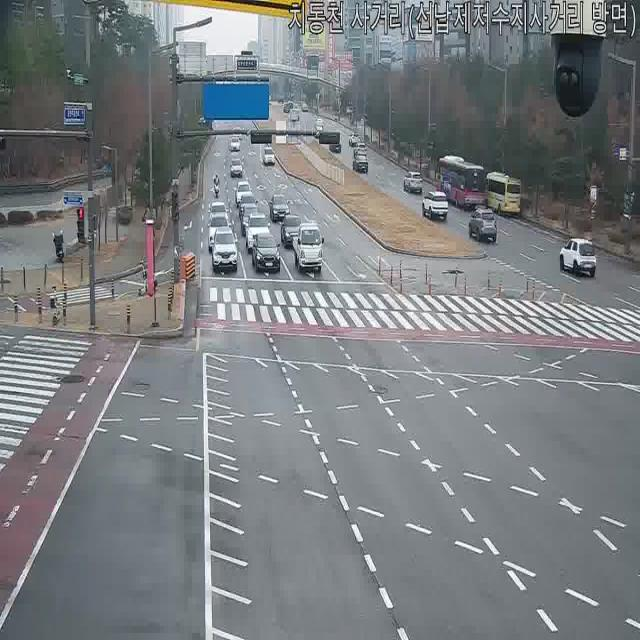Bus: (437, 155, 489, 209), (482, 173, 524, 215)
Car: (482, 173, 524, 215), (558, 237, 598, 278), (251, 232, 281, 274), (211, 229, 239, 273), (468, 208, 498, 244), (244, 214, 272, 252), (207, 215, 232, 251), (280, 214, 306, 248), (422, 190, 449, 222), (268, 193, 290, 223), (240, 207, 262, 235), (238, 193, 258, 221), (235, 180, 253, 208), (208, 202, 229, 226), (403, 171, 423, 194), (352, 153, 369, 173), (230, 156, 244, 178), (262, 148, 275, 166), (354, 142, 368, 156), (229, 136, 241, 152), (349, 132, 362, 146), (314, 120, 324, 138), (330, 135, 340, 153), (289, 109, 299, 122), (283, 102, 293, 114), (300, 102, 309, 113)
Motorcycle: (212, 173, 220, 199)
Truck: (294, 221, 324, 273)
